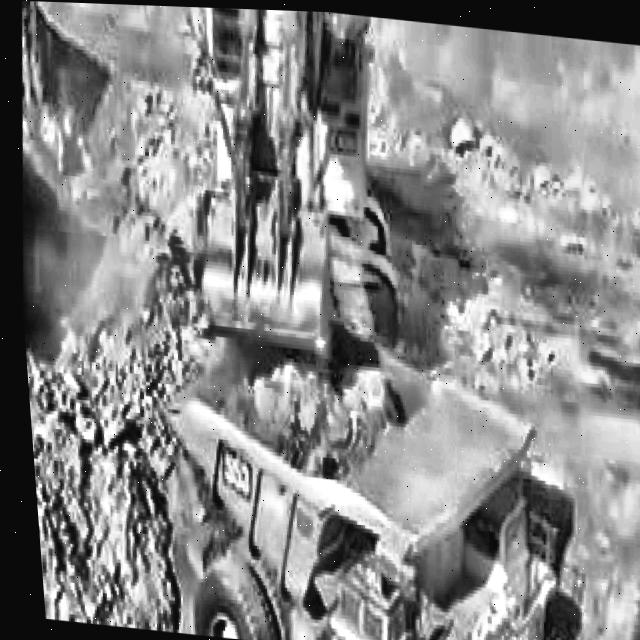dump_truck: (148, 383, 587, 640)
excavator: (145, 4, 393, 372)
